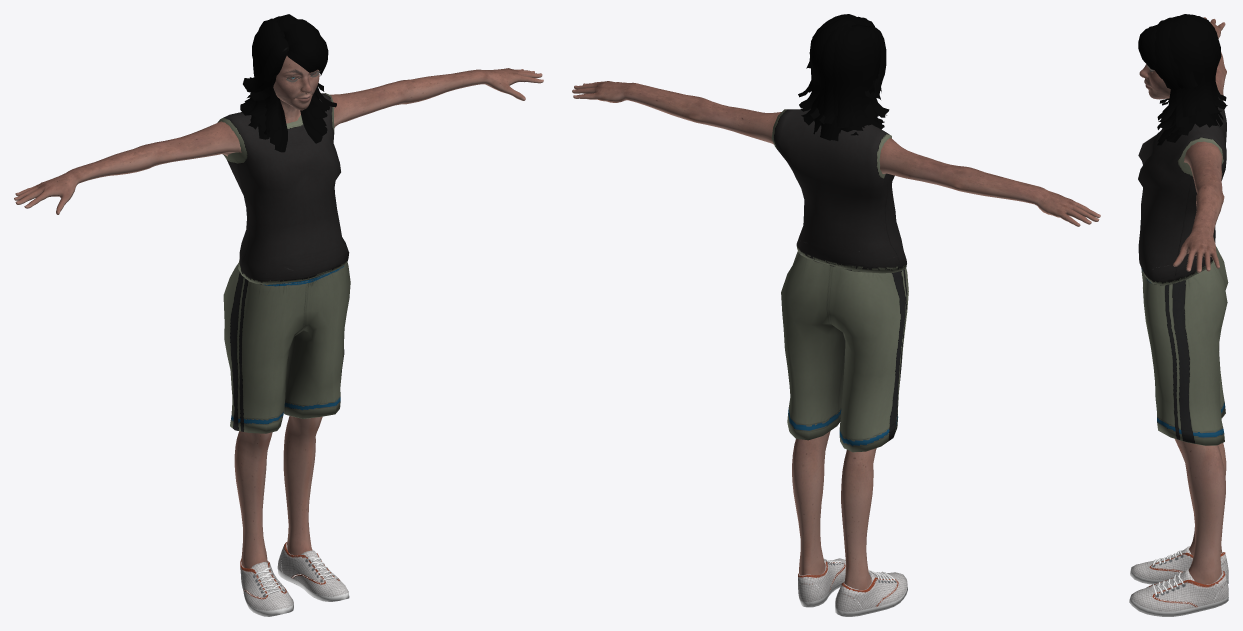
File: Woman D.obj
3 renders of one model, left to right at view 1: azimuth 30°, elevation 25°; view 2: azimuth 150°, elevation 25°; view 3: azimuth 270°, elevation 25°, orthographic.
Visible parts, largest first — view 1: Body, Bottoms, Tops, Hair, Shoes; view 2: Bottoms, Body, Tops, Hair, Shoes; view 3: Bottoms, Body, Tops, Hair, Shoes.
Part boxes in pixels (left/top/right/bottom): Body: left=14, top=56, right=543, bottom=572; Bottoms: left=223, top=262, right=350, bottom=433; Tops: left=217, top=93, right=349, bottom=284; Hair: left=240, top=14, right=336, bottom=152; Shoes: left=240, top=542, right=349, bottom=616; Bottoms: left=781, top=251, right=908, bottom=452; Body: left=572, top=81, right=1100, bottom=598; Tops: left=771, top=109, right=906, bottom=273; Hair: left=798, top=14, right=889, bottom=141; Shoes: left=798, top=558, right=907, bottom=616; Bottoms: left=1141, top=246, right=1228, bottom=445; Body: left=1139, top=17, right=1226, bottom=586; Tops: left=1138, top=97, right=1226, bottom=285; Hair: left=1138, top=14, right=1227, bottom=145; Shoes: left=1129, top=546, right=1228, bottom=616.
Bounding box in the file's own units: 167 × 176 × 27.46.
5 materials, 5 textured.
